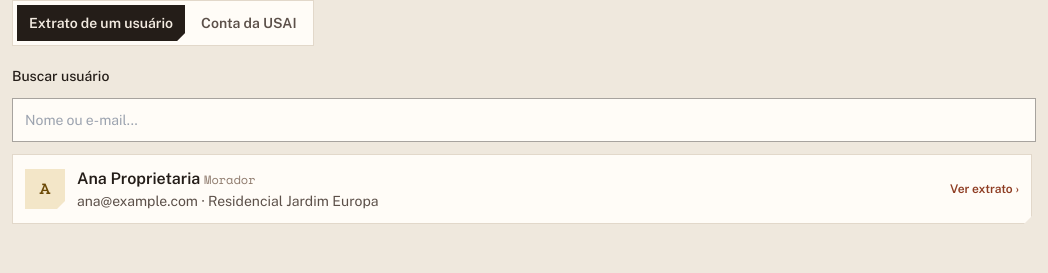
Test: AbaExtratos — extrato de qualquer usuário › mostra erro quando o extrato não abre e continua na busca
Click the button "Ana Proprietaria" at (45, 189), box [12,154,1032,224]
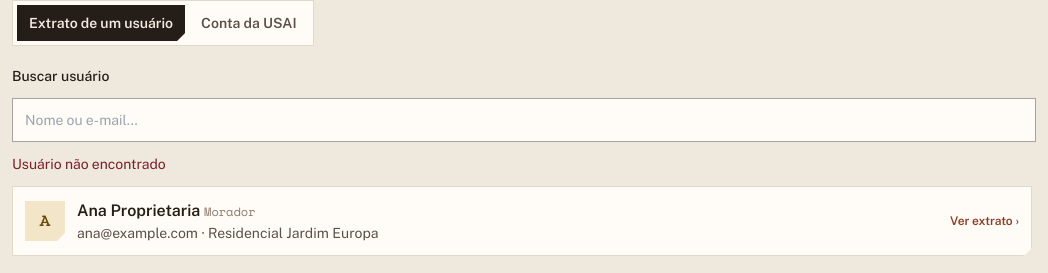
Check: the search field labelled "Buscar usuário" is shown, box [12,98,1036,142]
Check: the message reads "Usuário não encontrado", box [12,156,166,172]
